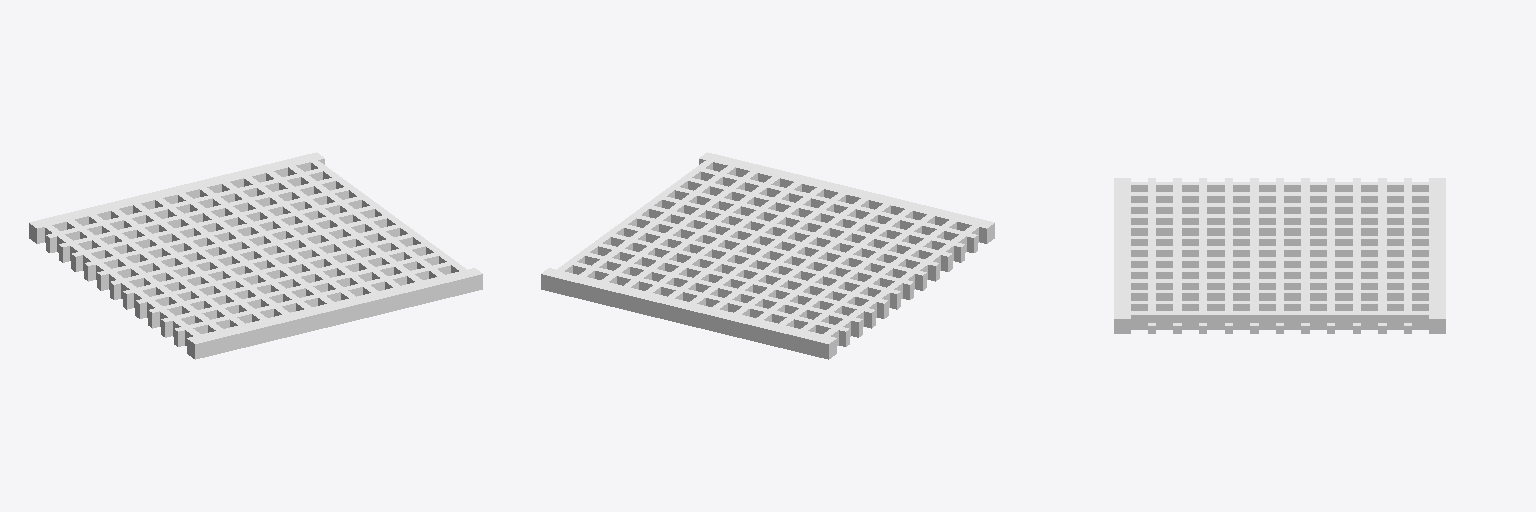
The model's file is emergency_exit_base.obj.
3 renders of one model, left to right at view 1: azimuth 30°, elevation 25°; view 2: azimuth 150°, elevation 25°; view 3: azimuth 270°, elevation 25°, orthographic.
Parts seen in each view (by area): view 1: object 1; view 2: object 1; view 3: object 1.
Part boxes in pixels (x1,y1,x2,y2): object 1: (29,152,482,359); object 1: (541,152,994,359); object 1: (1114,178,1445,333).
Bounding box in the file's own units: 3.9 × 0.2 × 3.9.